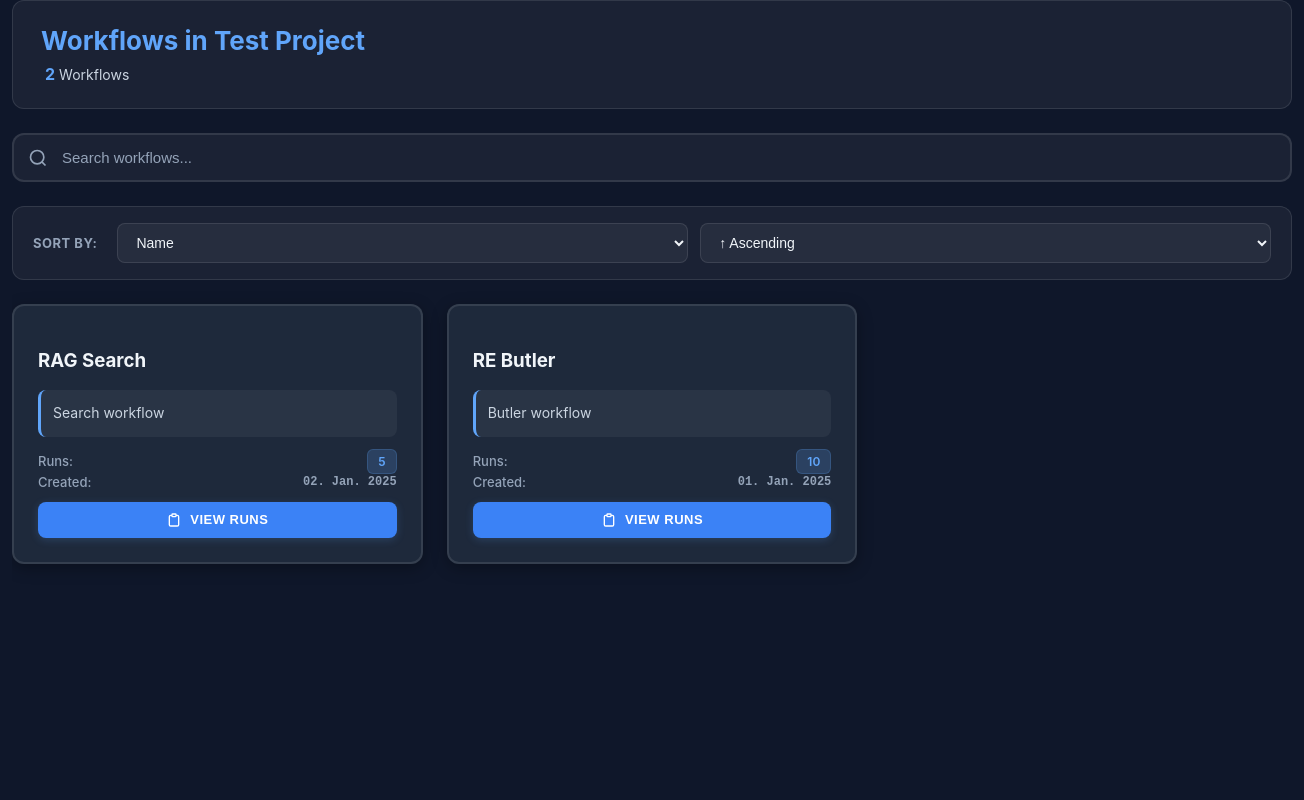
WorkflowsOverview › should clear search when clear button is clicked
The image size is (1304, 800).
Type "Butler" into the field with placeholder "Search workflows...".
click(652, 158); type("Butler")  # box [12,133,1292,182]
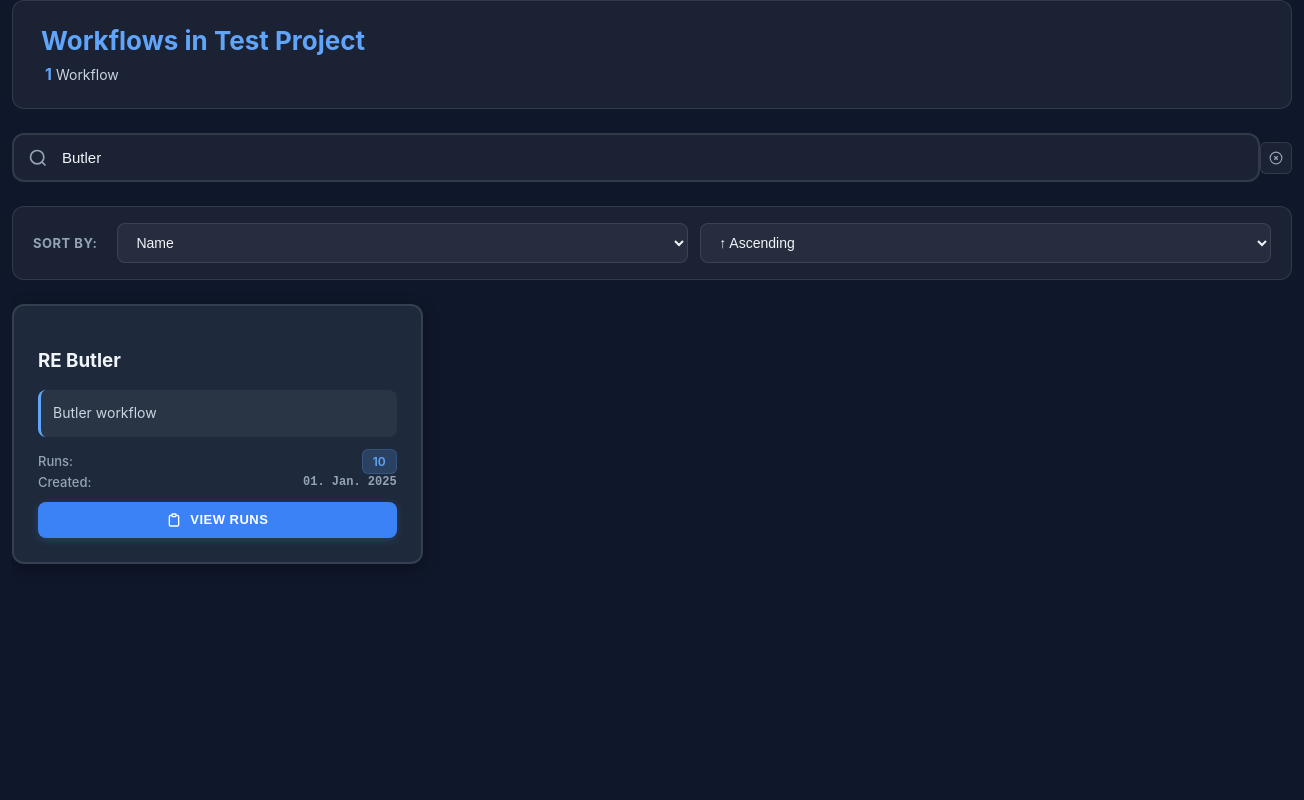
Now the heading "RAG Search" is gone
Click the button titled "Clear search".
click(1276, 158)  # box [1260,142,1292,174]
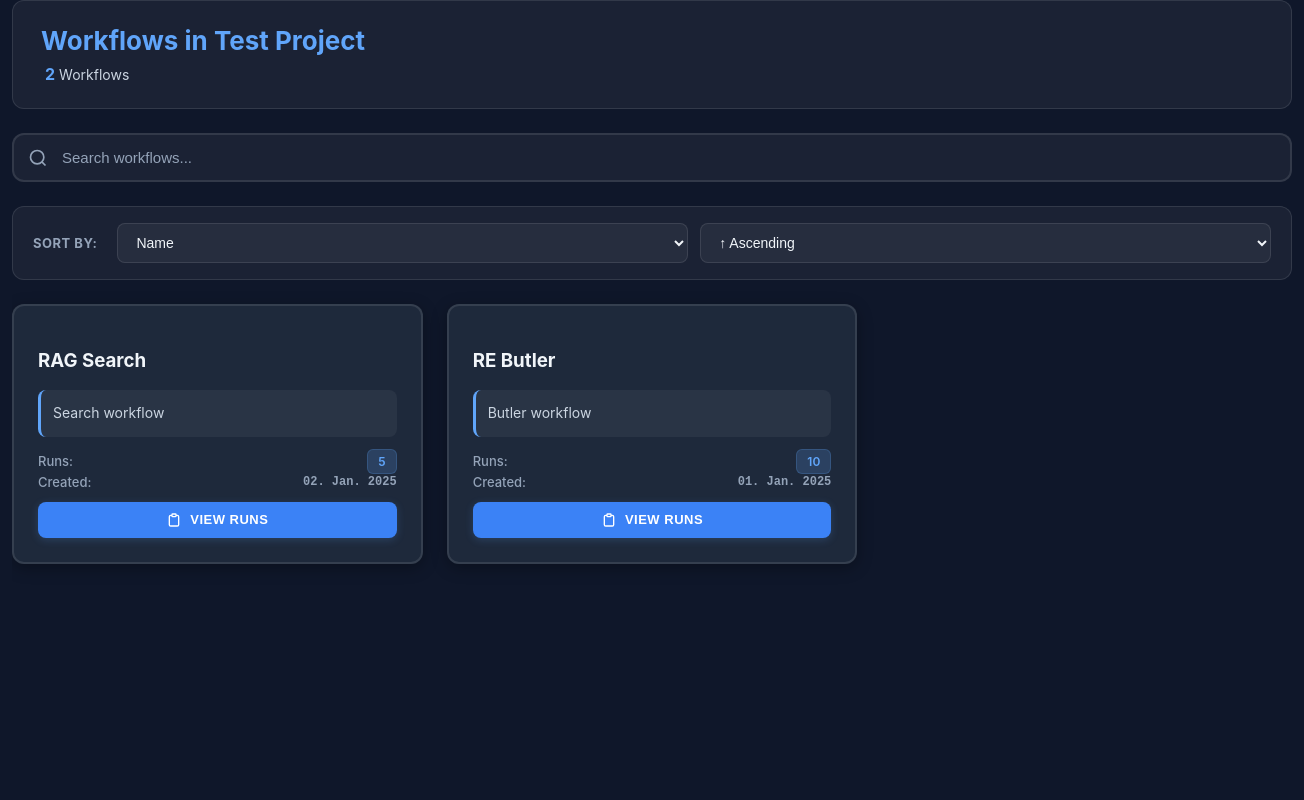
Now the field with placeholder "Search workflows..." is empty, box [12,133,1292,182]
Now the heading "RAG Search" is shown, box [38,349,146,372]
